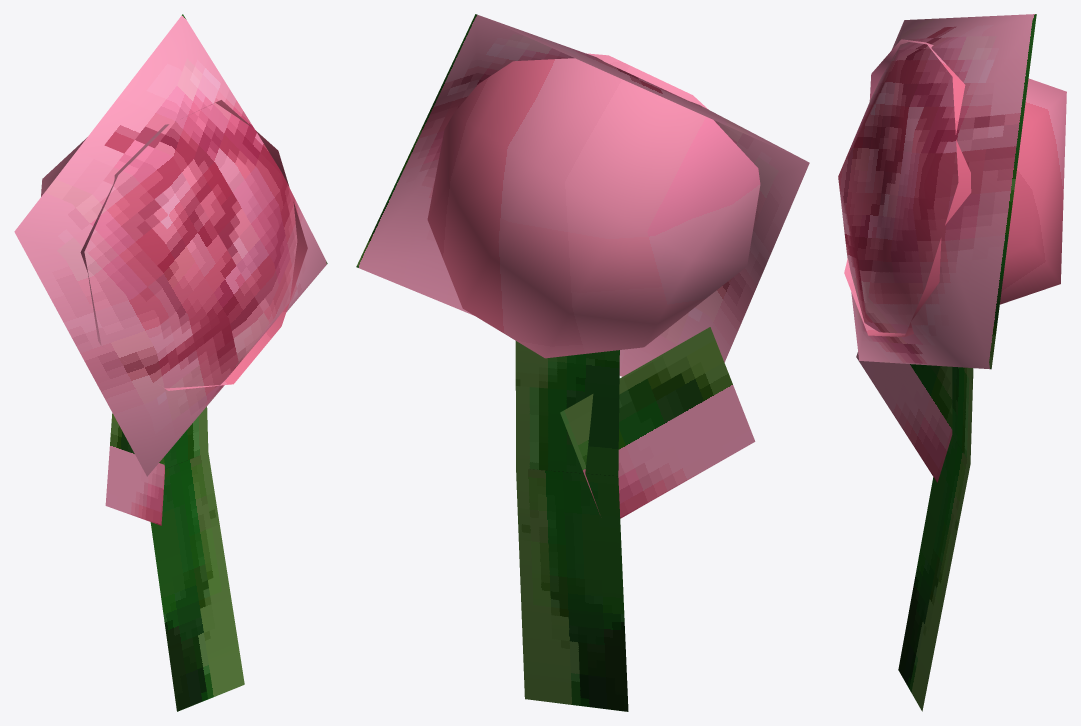
Rendered from flw_rose_pi_acc.dae.
3 renders of one model, left to right at view 1: azimuth 30°, elevation 25°; view 2: azimuth 150°, elevation 25°; view 3: azimuth 270°, elevation 25°, orthographic. The views are drawn at different scales.
Visible parts, largest first — view 1: flw_rose_pi_acc; view 2: flw_rose_pi_acc; view 3: flw_rose_pi_acc.
Boxes of the visible parts, left/top/right/bottom form: flw_rose_pi_acc: left=14, top=14, right=327, bottom=711; flw_rose_pi_acc: left=356, top=14, right=809, bottom=711; flw_rose_pi_acc: left=838, top=14, right=1066, bottom=711.
Size of the model in its own units: 10.66 by 18.3 by 5.47.
Materials: 1 (1 with a texture image).
